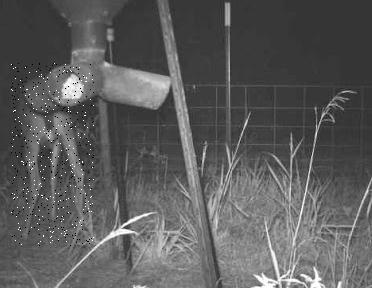Deer: (11, 63, 94, 246)
